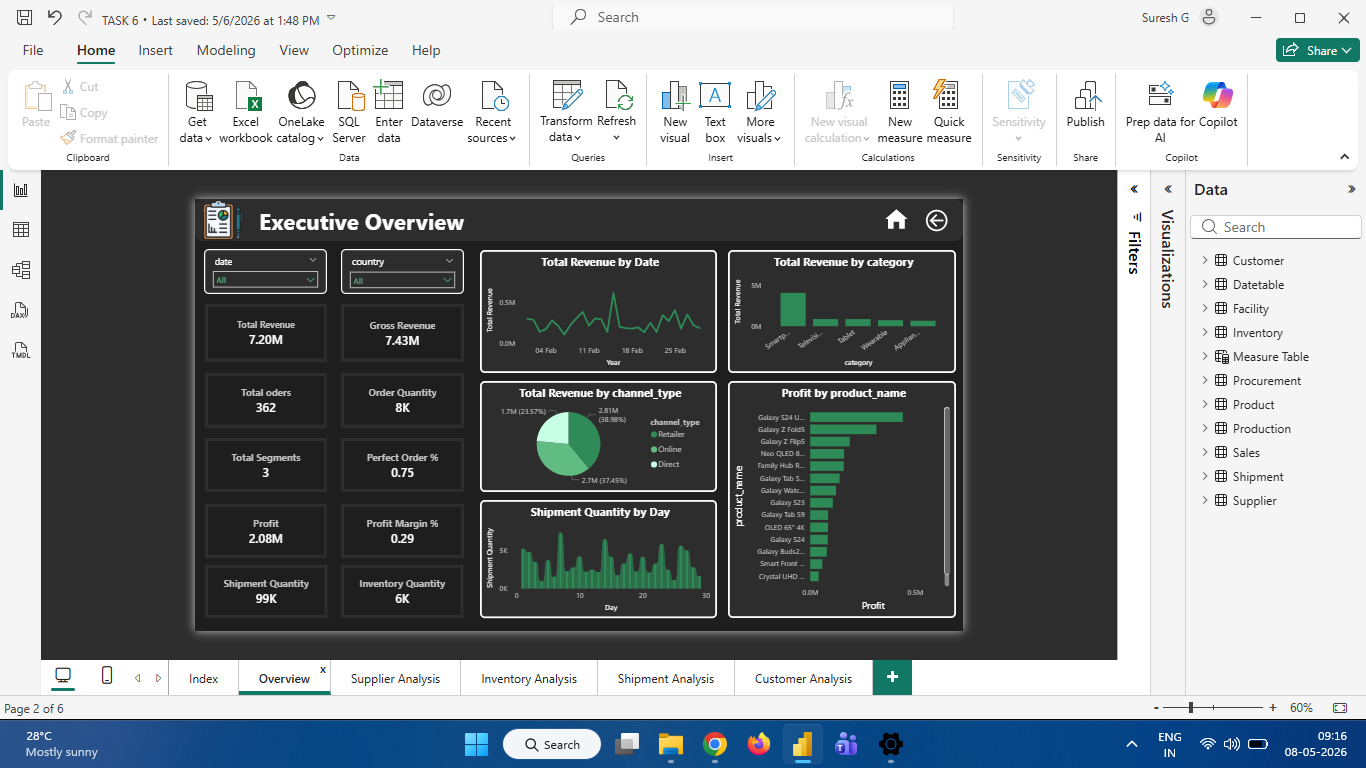

What the dashboard file says about the page in this screenshot:
{"tool":"powerbi","page":{"name":"Overview","canvas":[1280,720],"ordinal":1},"visuals":[{"type":"cardVisual","fields":{"Data":["Measure Table.Total Revenue"]},"box":[16.7,175,203.3,96.7],"z":0},{"type":"cardVisual","fields":{"Data":["Measure Table.Profit"]},"box":[16.7,508.3,203.3,90],"z":1},{"type":"cardVisual","fields":{"Data":["Measure Table.Profit Margin %"]},"box":[243.3,508.3,205,90],"z":2},{"type":"cardVisual","fields":{"Data":["Measure Table.Perfect Order %"]},"box":[243.3,398.3,205,90],"z":3},{"type":"cardVisual","fields":{"Data":["Measure Table.Total Segments"]},"box":[16.7,398.3,203.3,90],"z":4},{"type":"cardVisual","fields":{"Data":["Measure Table.Gross Revenue"]},"box":[243.3,175,205,96.7],"z":5},{"type":"cardVisual","fields":{"Data":["Measure Table.Order Quantity"]},"box":[243.3,290,205,91.7],"z":6},{"type":"cardVisual","fields":{"Data":["Measure Table.Inventory Quantity"]},"box":[243.9,609.8,204.2,88.2],"z":7},{"type":"cardVisual","fields":{"Data":["Measure Table.Shipment Quantity"]},"box":[16.2,609.8,204.2,88.2],"z":8},{"type":"cardVisual","fields":{"Data":["Measure Table.Total oders"]},"box":[16.7,290,203.3,91.7],"z":9},{"type":"slicer","fields":{"Values":["Datetable.date"]},"box":[15,83.3,205,75],"z":10},{"type":"slicer","fields":{"Values":["Customer.country"]},"box":[243.3,83.3,205,75],"z":11},{"type":"textbox","box":[0,0,1280,70],"z":12},{"type":"lineChart","title":"Total Revenue by Date","fields":{"Y":["Measure Table.Total Revenue"],"Category":["Datetable.date.Variation.Date Hierarchy.Year","Datetable.date.Variation.Date Hierarchy.Quarter","Datetable.date.Variation.Date Hierarchy.Month","Datetable.date.Variation.Date Hierarchy.Day"]},"box":[475,85,395,205],"z":13},{"type":"clusteredColumnChart","fields":{"Category":["Product.category"],"Y":["Measure Table.Total Revenue"]},"box":[888.3,85,380,205],"z":14},{"type":"pieChart","fields":{"Y":["Measure Table.Total Revenue"],"Category":["Customer.channel_type"]},"box":[475,303.3,395,185],"z":15},{"type":"barChart","fields":{"Category":["Product.product_name"],"Y":["Measure Table.Profit"]},"box":[888.3,303.3,380,395],"z":16},{"type":"ribbonChart","fields":{"Y":["Measure Table.Shipment Quantity"],"Category":["Datetable.date.Variation.Date Hierarchy.Year","Datetable.date.Variation.Date Hierarchy.Quarter","Datetable.date.Variation.Date Hierarchy.Month","Datetable.date.Variation.Date Hierarchy.Day"]},"box":[475,501.7,395,196.7],"z":17},{"type":"image","box":[0,0,93.3,70],"z":18},{"type":"actionButton","box":[1180,8.3,88.3,55],"z":19},{"type":"image","box":[1101.7,6.7,78.3,58.3],"z":20}]}

Visuals, with their boxes on the page's 1280x720 design canvas (x1, y1, x2, y2). These are canvas units, not pixel positions in the 1366x768 screenshot, which may show the page scaled, cropped or inside an application window:
cardVisual - Measure Table.Total Revenue: l=17, t=175, r=220, b=272
cardVisual - Measure Table.Profit: l=17, t=508, r=220, b=598
cardVisual - Measure Table.Profit Margin %: l=243, t=508, r=448, b=598
cardVisual - Measure Table.Perfect Order %: l=243, t=398, r=448, b=488
cardVisual - Measure Table.Total Segments: l=17, t=398, r=220, b=488
cardVisual - Measure Table.Gross Revenue: l=243, t=175, r=448, b=272
cardVisual - Measure Table.Order Quantity: l=243, t=290, r=448, b=382
cardVisual - Measure Table.Inventory Quantity: l=244, t=610, r=448, b=698
cardVisual - Measure Table.Shipment Quantity: l=16, t=610, r=220, b=698
cardVisual - Measure Table.Total oders: l=17, t=290, r=220, b=382
slicer - Datetable.date: l=15, t=83, r=220, b=158
slicer - Customer.country: l=243, t=83, r=448, b=158
textbox: l=0, t=0, r=1280, b=70
"Total Revenue by Date" lineChart: l=475, t=85, r=870, b=290
clusteredColumnChart - Product.category x Measure Table.Total Revenue: l=888, t=85, r=1268, b=290
pieChart - Measure Table.Total Revenue x Customer.channel_type: l=475, t=303, r=870, b=488
barChart - Product.product_name x Measure Table.Profit: l=888, t=303, r=1268, b=698
ribbonChart - Measure Table.Shipment Quantity x Datetable.date.Variation.Date Hierarchy.Year: l=475, t=502, r=870, b=698
image: l=0, t=0, r=93, b=70
actionButton: l=1180, t=8, r=1268, b=63
image: l=1102, t=7, r=1180, b=65
